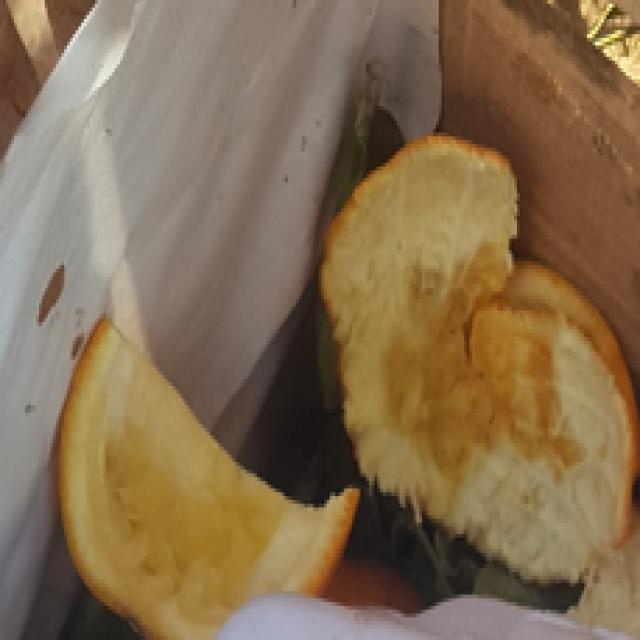paper: (296, 128, 640, 580), (63, 306, 354, 624)
